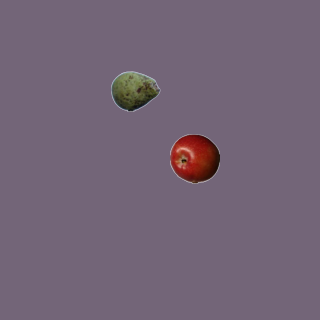Apple Braeburn: (169, 133, 219, 183)
Pear Stone: (110, 66, 160, 116)
